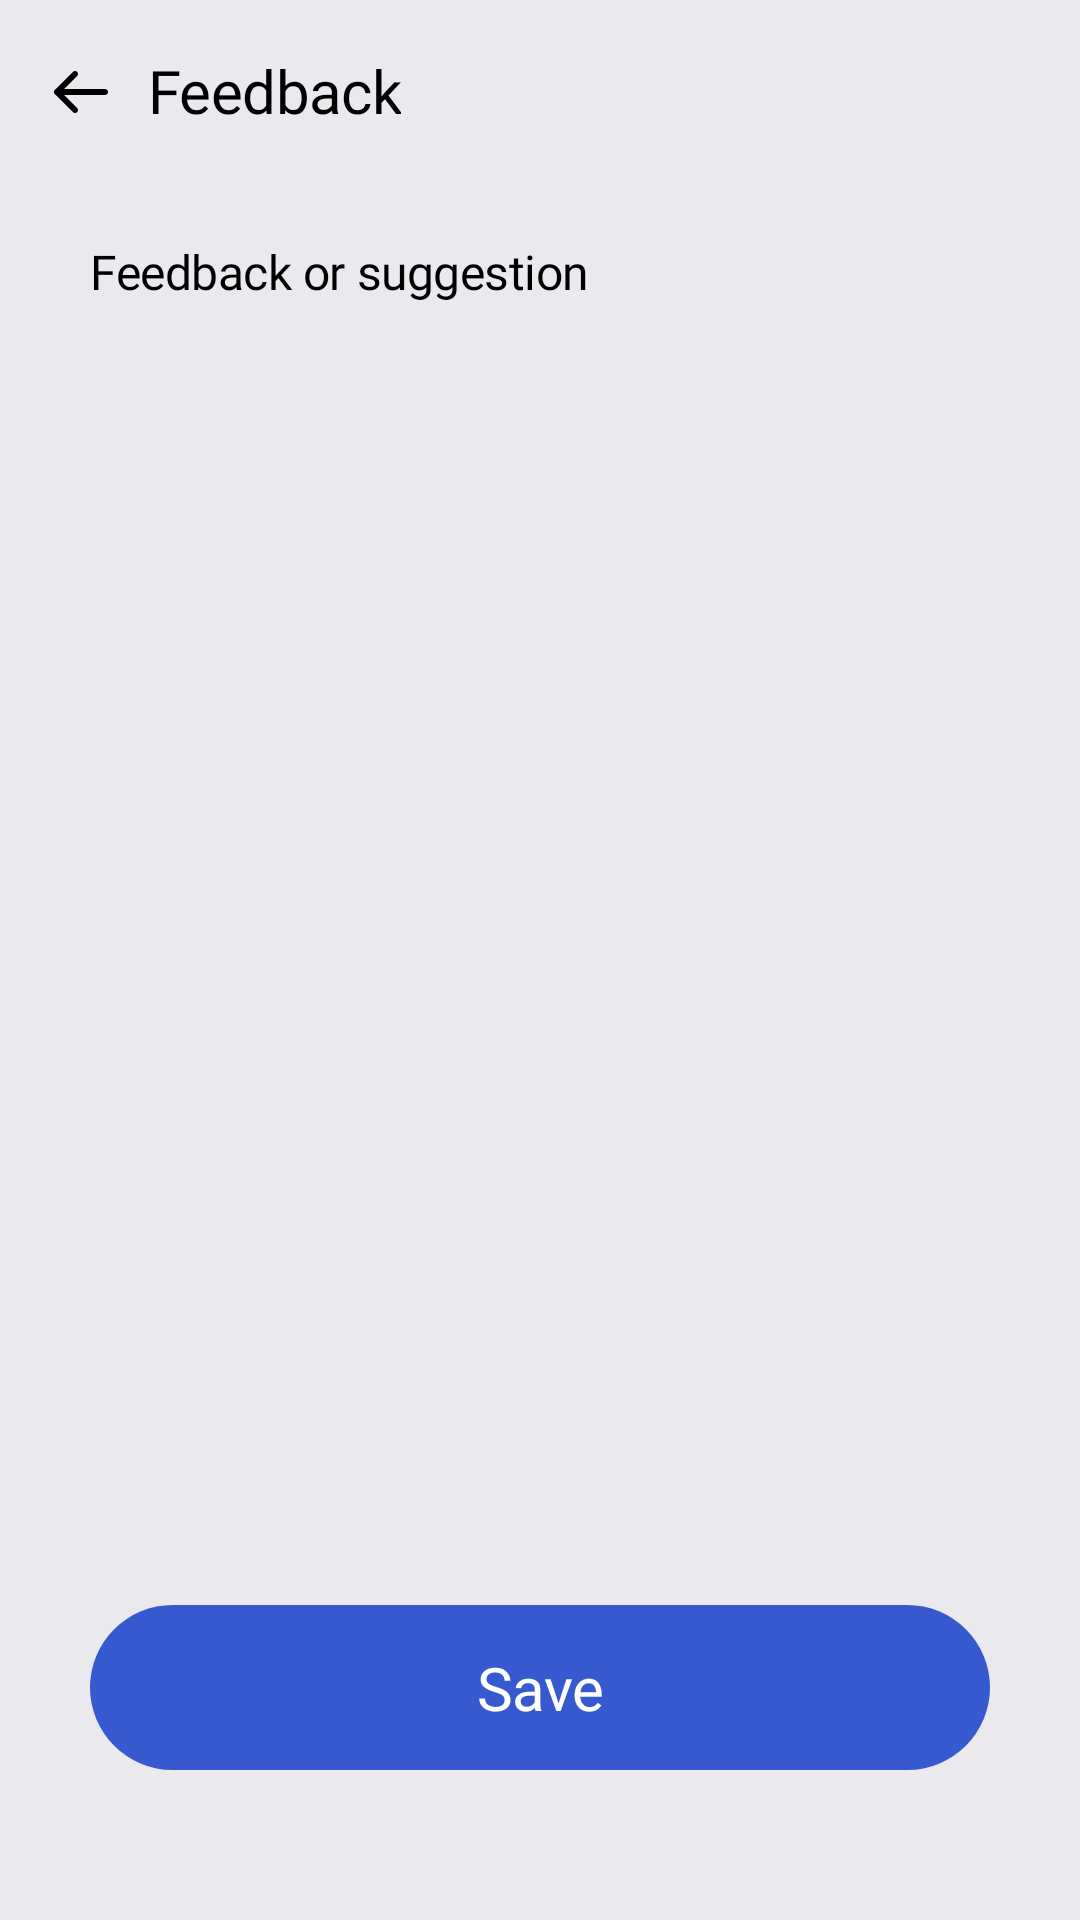

Locate icon controls on the screen. Image size 1080w x 1920h, boxes as (x1, y1, x2, y2).
arrow left: (54, 71, 108, 113)
